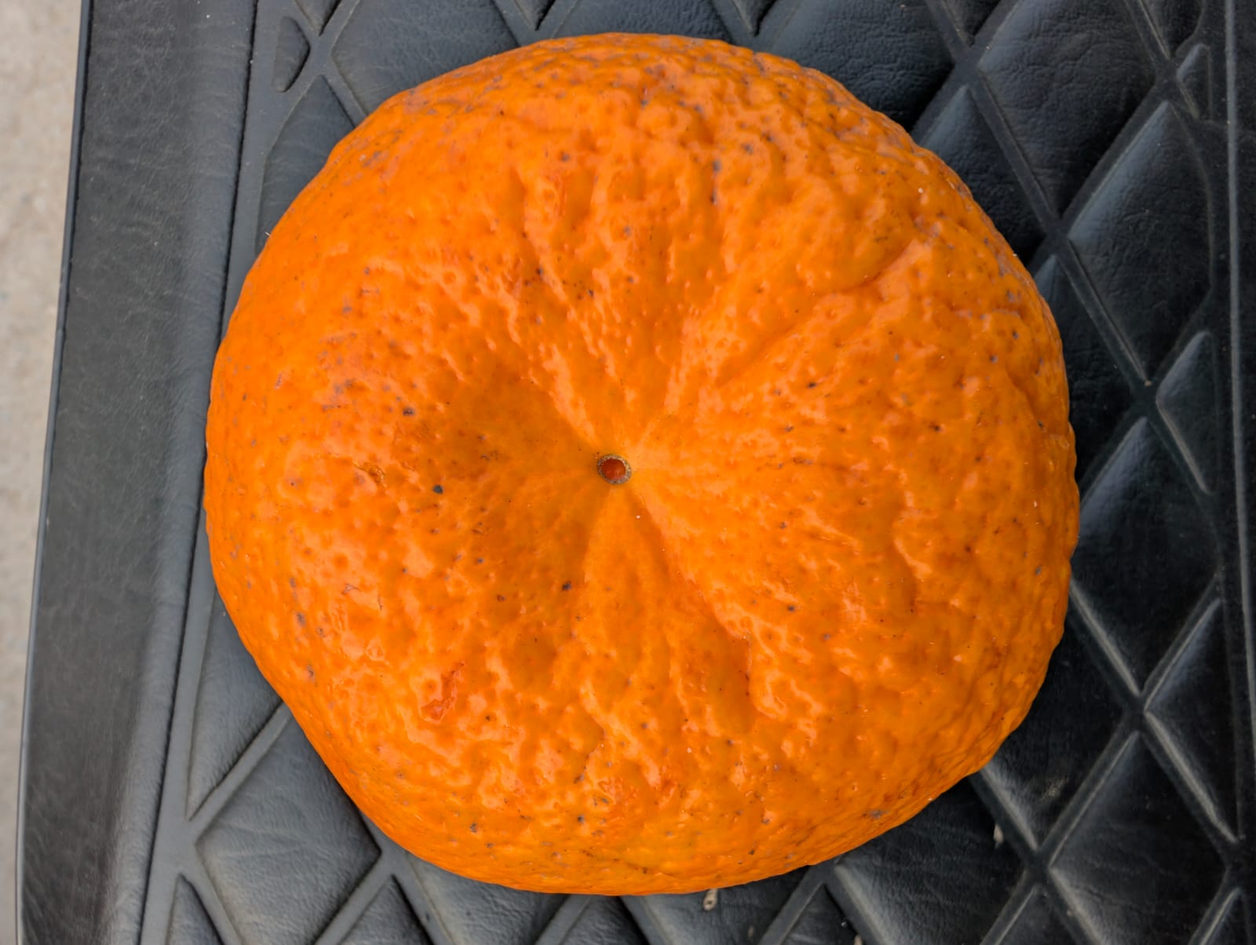orange: (81, 157, 936, 918)
